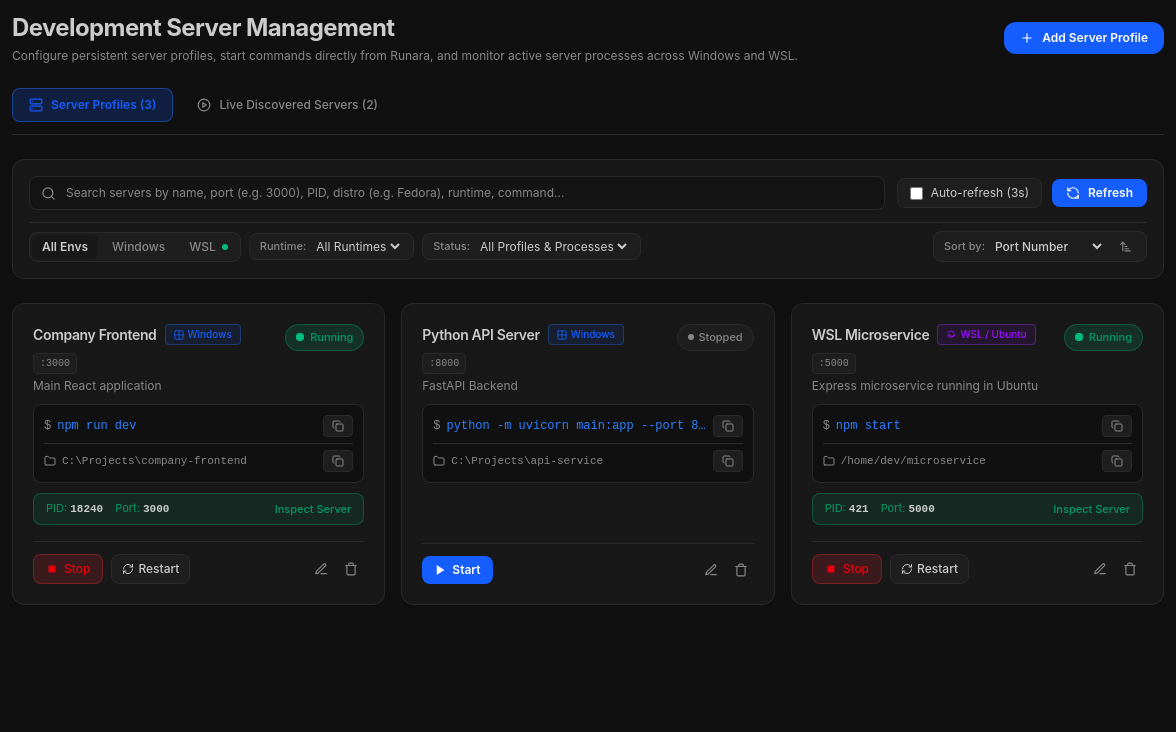
Test: Servers & Profiles Management (Milestone 7) › executes profile start sequence successfully
Expected: the heading "Python API Server" is shown, [422,324,540,344]
Click the button "Start". click: (457, 570)
box: [422,556,492,584]
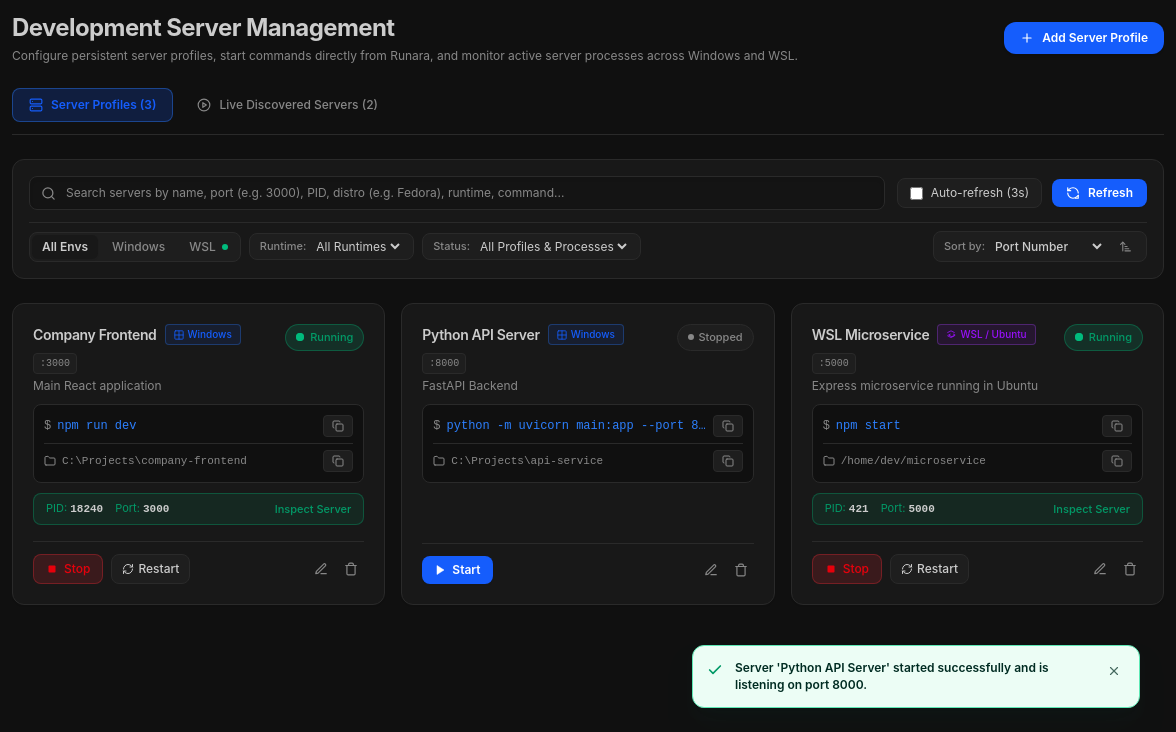
Expected: the text "started successfully and is listening on port 8000" is shown, [735,660,1049,692]
